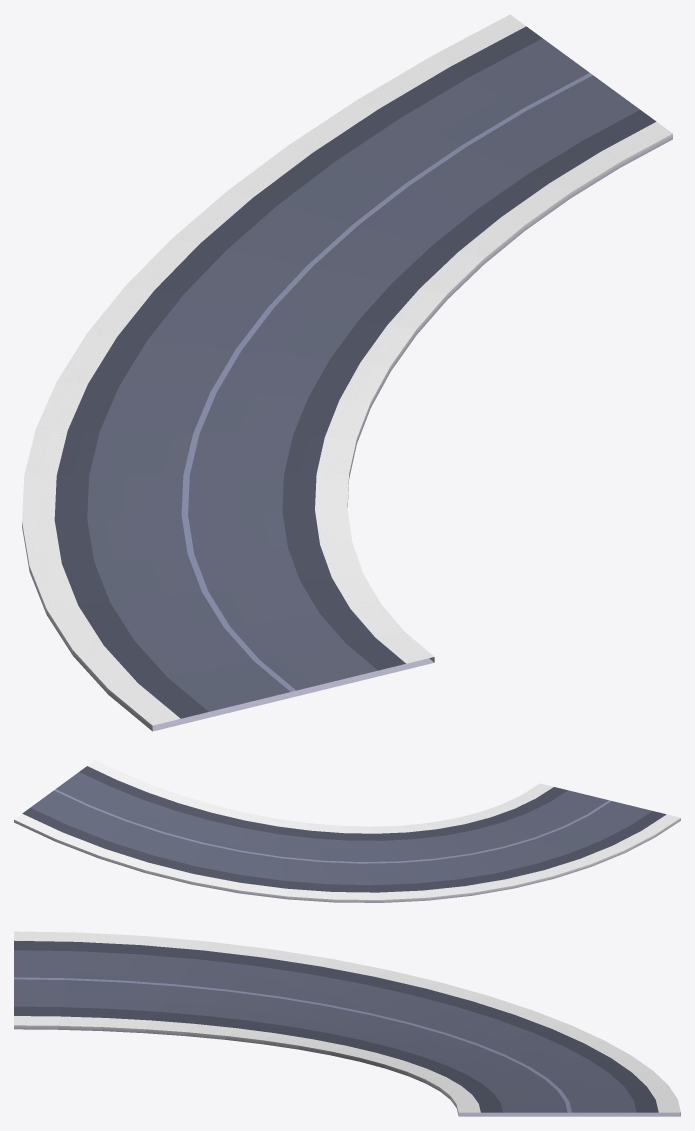
The model's file is road-Turn-Flat-BiSlopeUp-Up2-Right-Size3.glb.
3 views of the same model, one above another, from view 1: azimuth 30°, elevation 25°; view 2: azimuth 150°, elevation 25°; view 3: azimuth 270°, elevation 25° (orthographic). The views are drawn at different scales.
Visible parts, largest first — view 1: road-Turn-Flat-BiSlopeUp-Up2-Right-Size3; view 2: road-Turn-Flat-BiSlopeUp-Up2-Right-Size3; view 3: road-Turn-Flat-BiSlopeUp-Up2-Right-Size3.
Boxes of the visible parts, bbox=[...] form: road-Turn-Flat-BiSlopeUp-Up2-Right-Size3: bbox=[22, 14, 672, 731]; road-Turn-Flat-BiSlopeUp-Up2-Right-Size3: bbox=[14, 760, 680, 902]; road-Turn-Flat-BiSlopeUp-Up2-Right-Size3: bbox=[14, 931, 680, 1116].
Size of the model in its own units: 3 by 0.52 by 3.
Materials: 1 (1 with a texture image).
